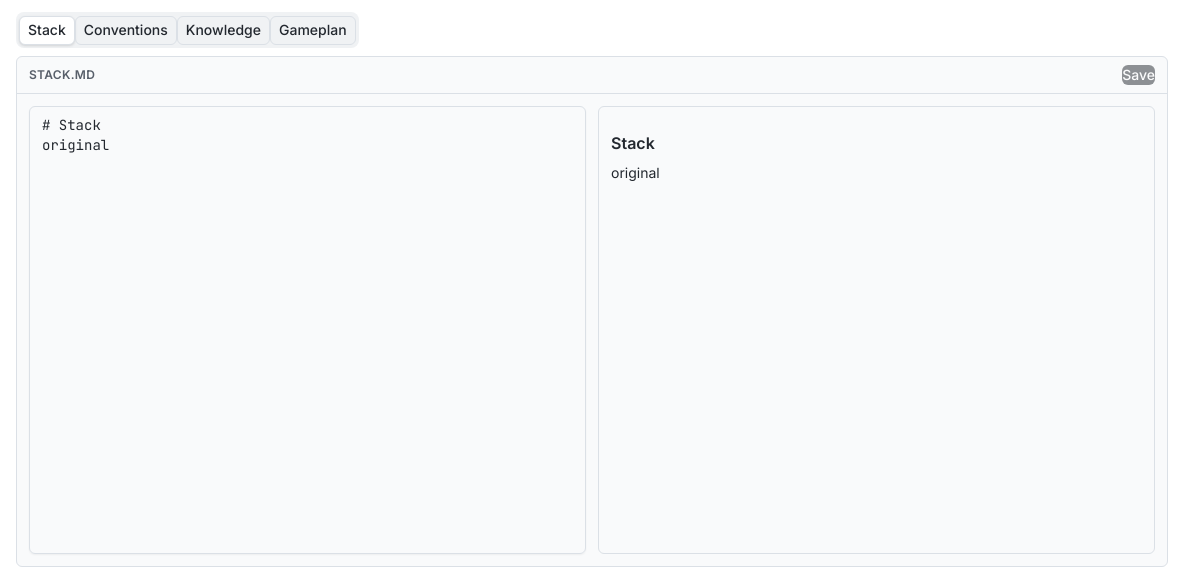
Test case: VaultPage › marks the section dirty after an edit
The width and height of the screenshot is (1185, 586).
Type " edited" into the text box named "stack source" at x=308, y=330, box [29,106,586,554]
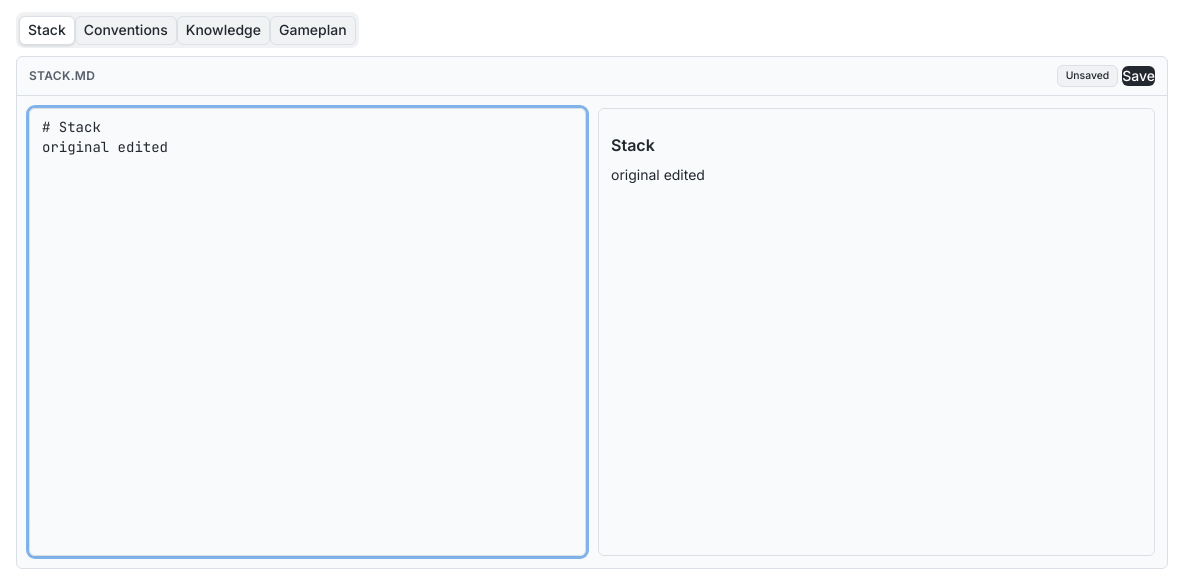
Expected: the text "Unsaved" is shown, [1057,65,1118,87]
